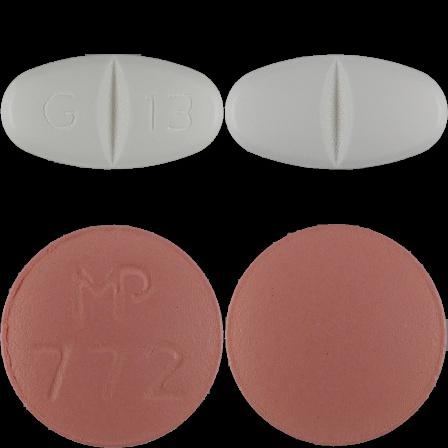54868-5195: (0, 0, 224, 224)
